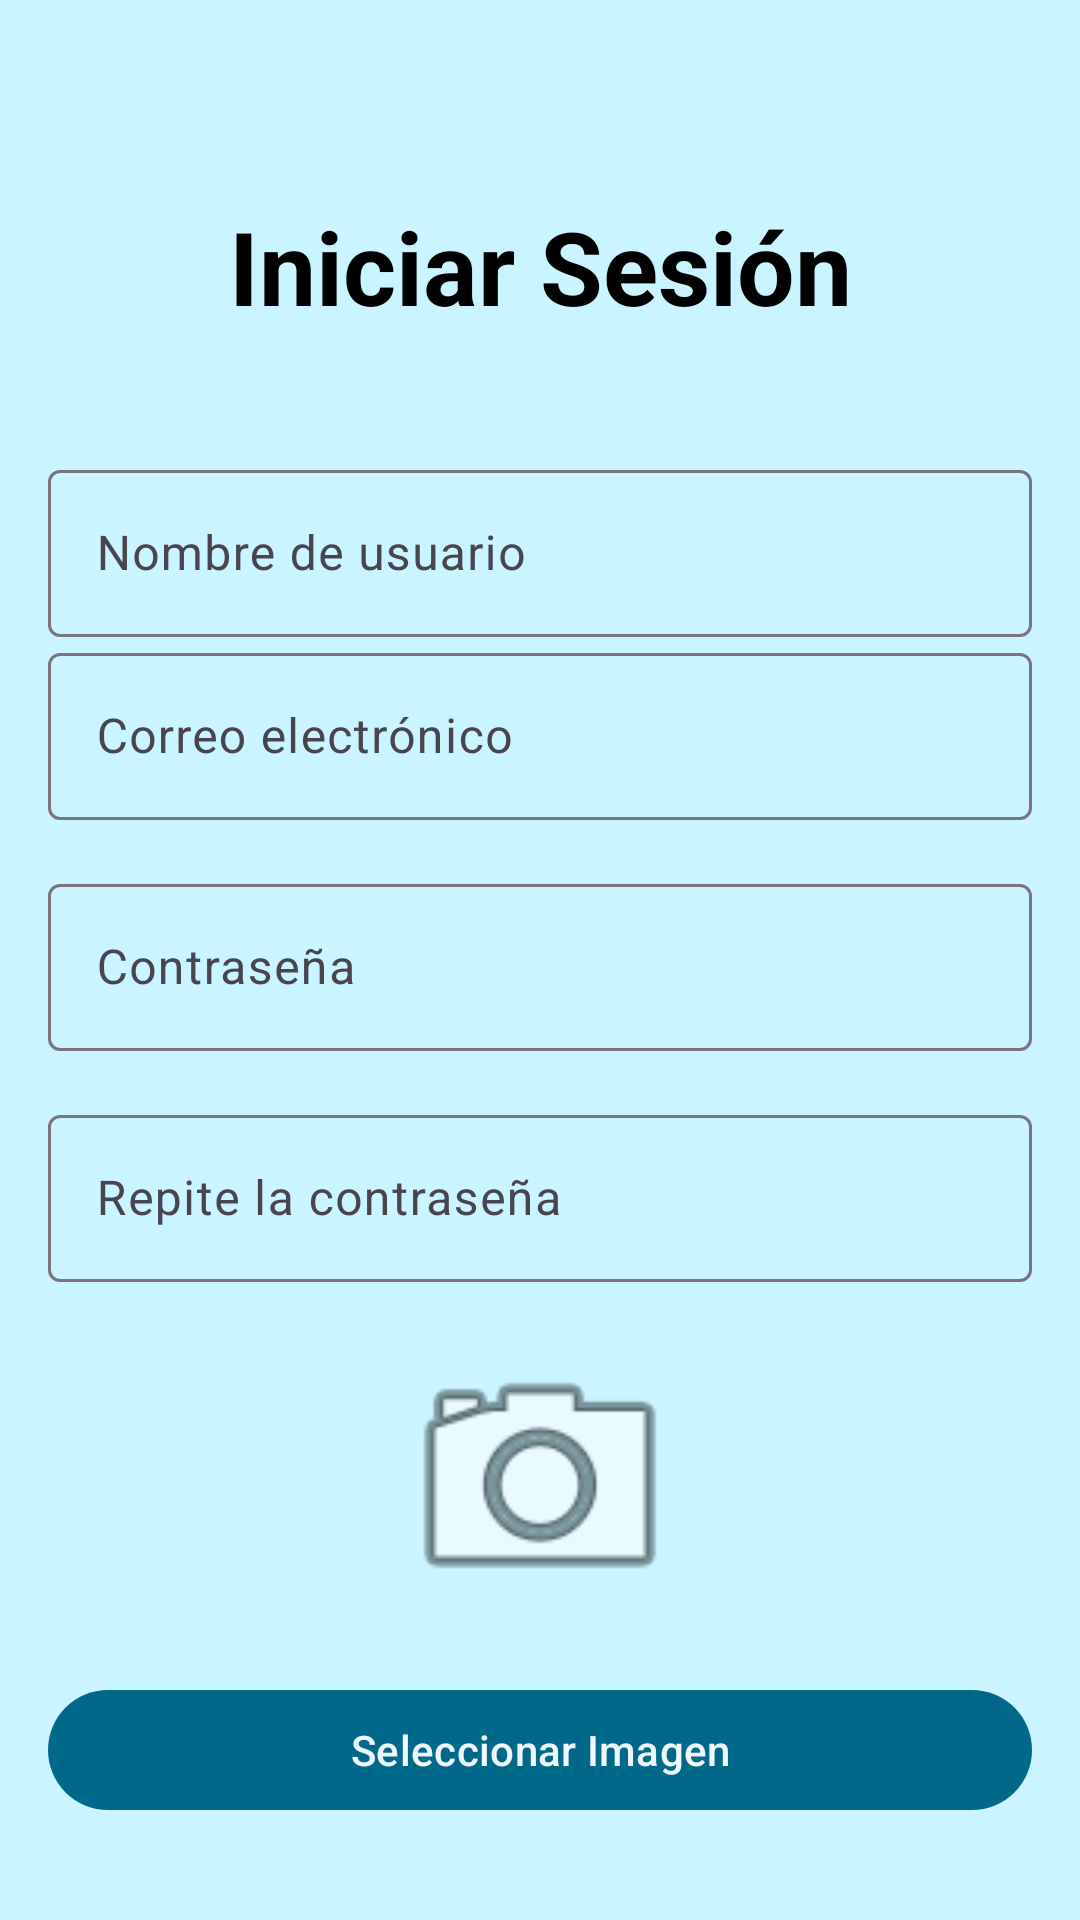

Named icons in this screenshot (1080*1920) and their centers, (x=x, y=y):
camera: (x=540, y=1475)
